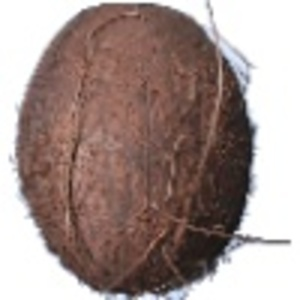coco: (11, 1, 268, 300)
